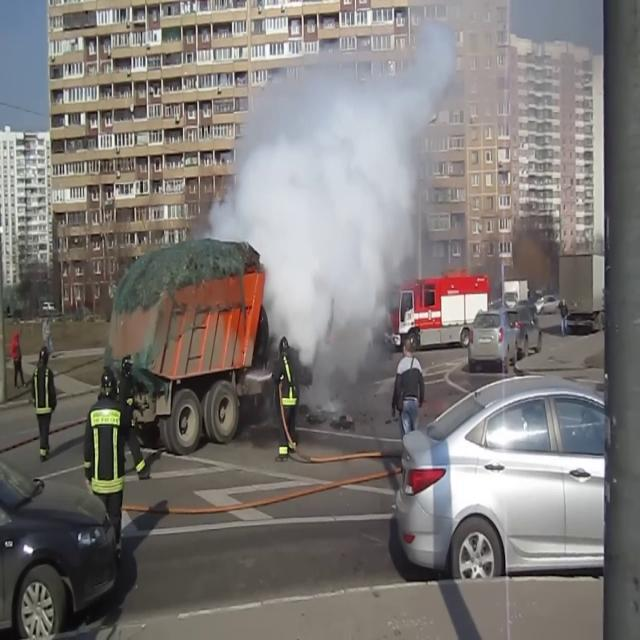Smoke: (213, 7, 452, 357)
